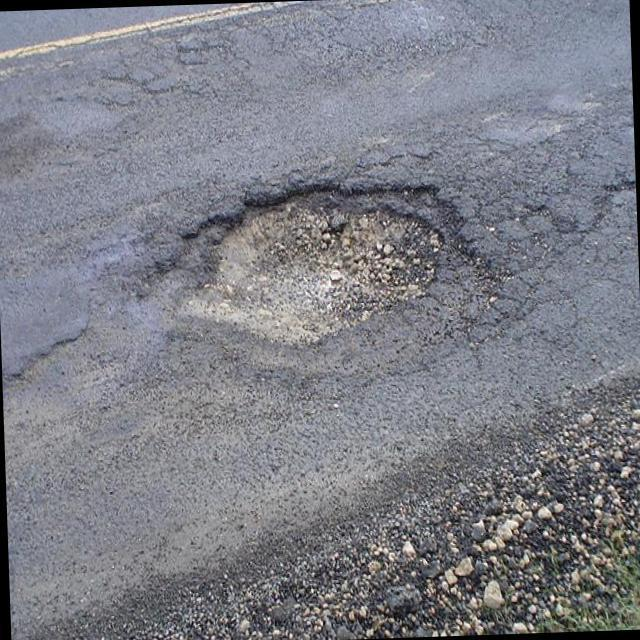Pothole: (11, 186, 446, 384)
